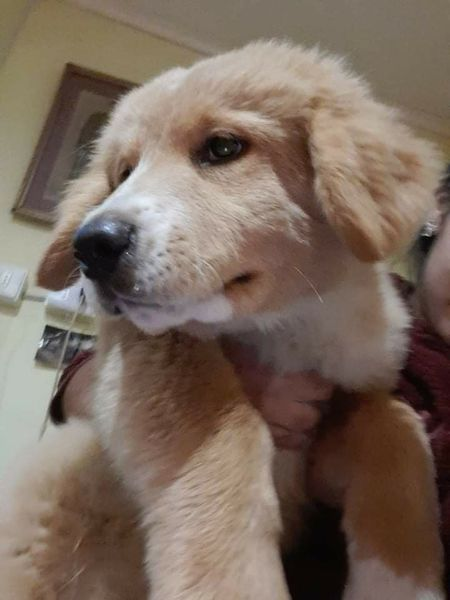dog: (30, 35, 441, 594)
